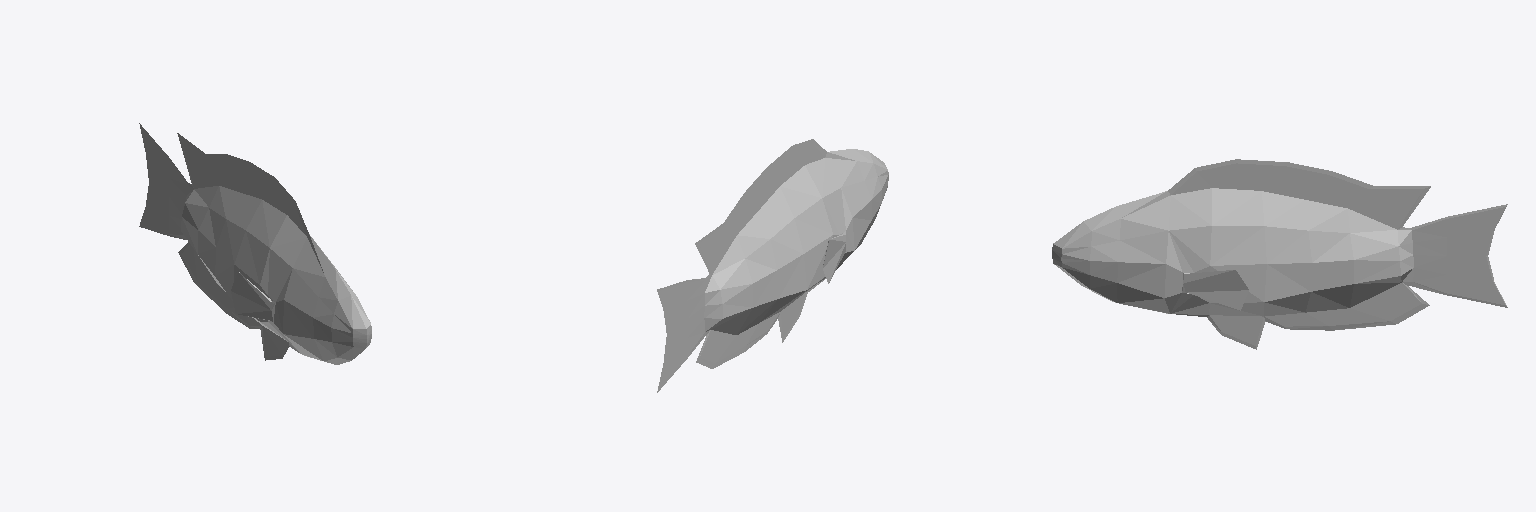
File: fish2.obj
3 renders of one model, left to right at view 1: azimuth 30°, elevation 25°; view 2: azimuth 150°, elevation 25°; view 3: azimuth 270°, elevation 25°, orthographic.
Parts seen in each view (by area): view 1: FISH_Plane; view 2: FISH_Plane; view 3: FISH_Plane.
Boxes of the visible parts, <box> form: FISH_Plane: <box>139,123,371,364</box>; FISH_Plane: <box>657,139,888,392</box>; FISH_Plane: <box>1052,159,1507,349</box>.
Bounding box in the file's own units: 2.03 × 4.58 × 9.92.